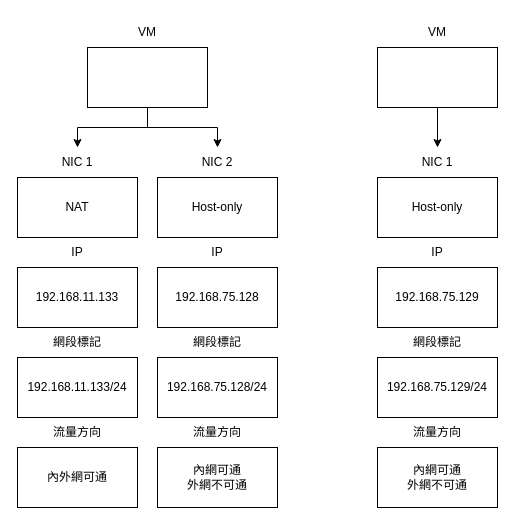
This 515x525 diagram has some shape labels left out. Each missing label, with the centre of its shape:
dev-a: (147,77)
server-b: (437,77)
